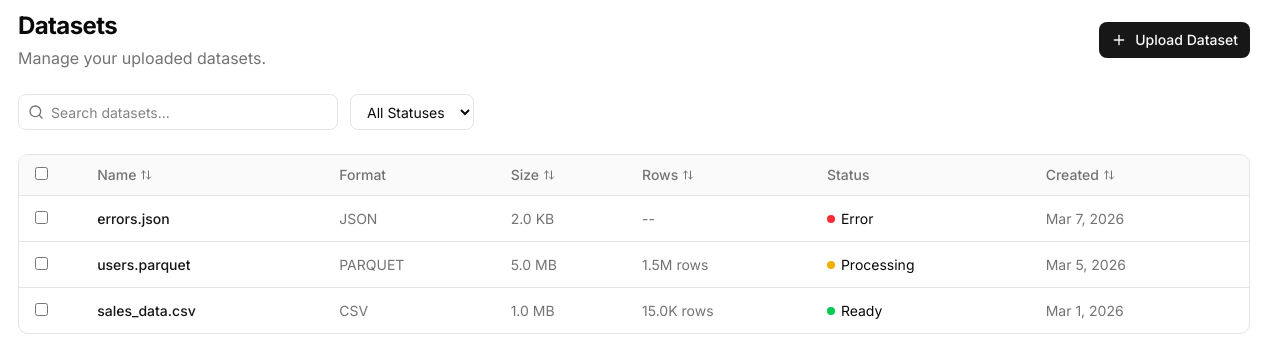
Scenario: DatasetsPage › search › filters datasets by search query
Type "sales" into the field with test id "search-input".
click(178, 112); type("sales")  # box [18, 94, 338, 130]
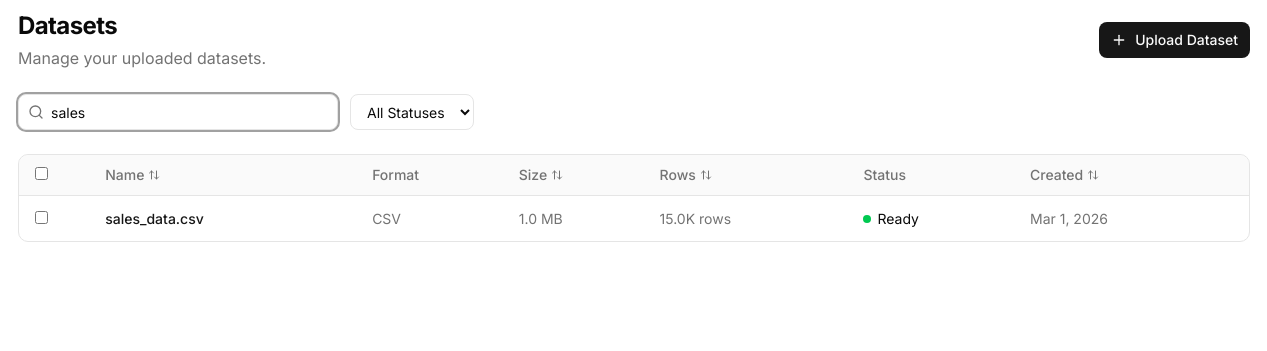
Expected: the link "sales_data.csv" is shown, [105, 210, 204, 226]
Now the number of rows with test id "dataset-row" is 1, box [19, 196, 1249, 241]
